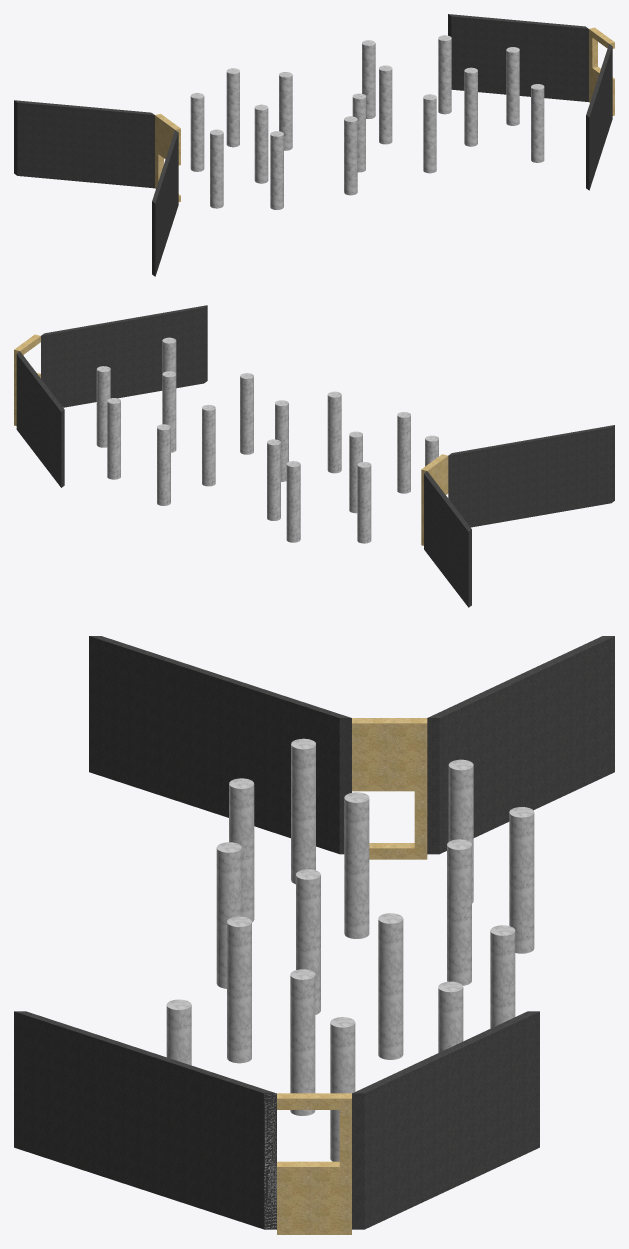
The model's file is fla_april.dae.
3 renders of one model, top to bottom at view 1: azimuth 30°, elevation 25°; view 2: azimuth 150°, elevation 25°; view 3: azimuth 270°, elevation 25°, orthographic. The views are drawn at different scales.
Visible parts, largest first — view 1: SketchUp (×21); view 2: SketchUp (×21); view 3: SketchUp (×21).
Part boxes in pixels (bbox=[...]): SketchUp (×21): bbox=[14, 14, 614, 276]; SketchUp (×21): bbox=[14, 305, 614, 607]; SketchUp (×21): bbox=[14, 636, 614, 1234].
Bounding box in the file's own units: 689 × 378 × 94.49.
4 materials, 3 textured.
